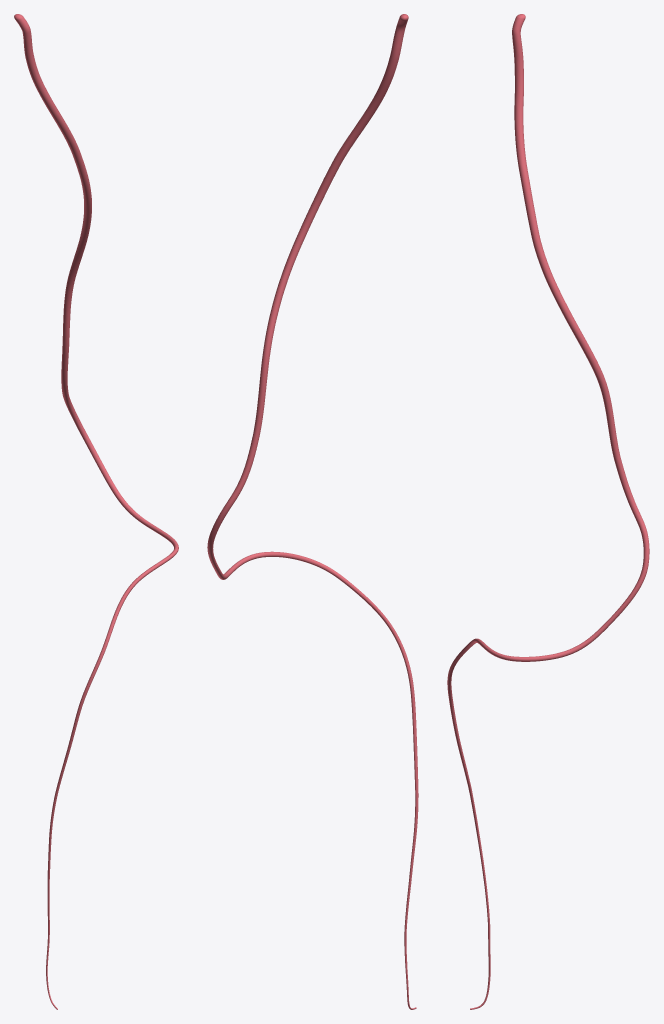
File: fma14345_fj3533.glb
3 views of the same model, side by side, from view 1: azimuth 30°, elevation 25°; view 2: azimuth 150°, elevation 25°; view 3: azimuth 270°, elevation 25° (orthographic). The views are drawn at different scales.
Visible parts, largest first — view 1: FMA14345_FJ3533; view 2: FMA14345_FJ3533; view 3: FMA14345_FJ3533.
Part boxes in pixels (x1,y1,x2,y2): FMA14345_FJ3533: (14,14,178,1009); FMA14345_FJ3533: (207,14,418,1009); FMA14345_FJ3533: (447,14,649,1009).
Bounding box in the file's own units: 0.0593 × 0.3464 × 0.0642.
